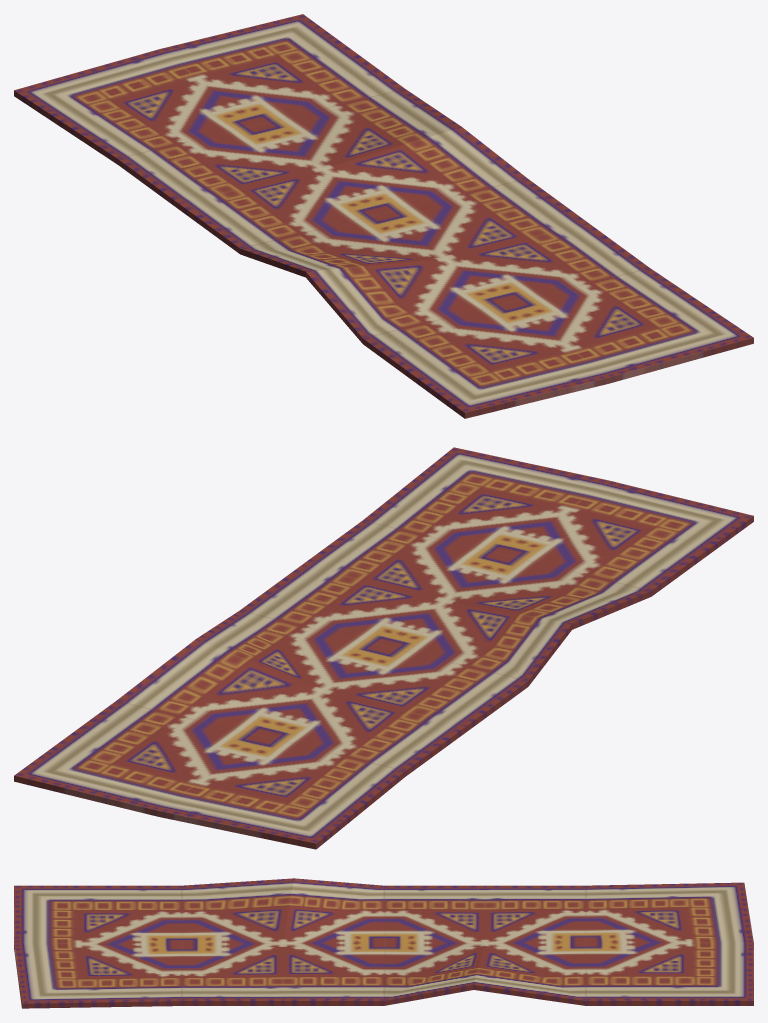
Rendered from SM_Prop_Rug_01.fbx.
3 renders of one model, top to bottom at view 1: azimuth 30°, elevation 25°; view 2: azimuth 150°, elevation 25°; view 3: azimuth 270°, elevation 25°, orthographic. The views are drawn at different scales.
Parts seen in each view (by area): view 1: SM_Prop_Rug_01; view 2: SM_Prop_Rug_01; view 3: SM_Prop_Rug_01.
Boxes of the visible parts, x1,y1,x2,y2 form: SM_Prop_Rug_01: [14, 14, 753, 418]; SM_Prop_Rug_01: [14, 447, 753, 849]; SM_Prop_Rug_01: [14, 878, 753, 1008].
Bounding box in the file's own units: 218 × 13.87 × 564.
